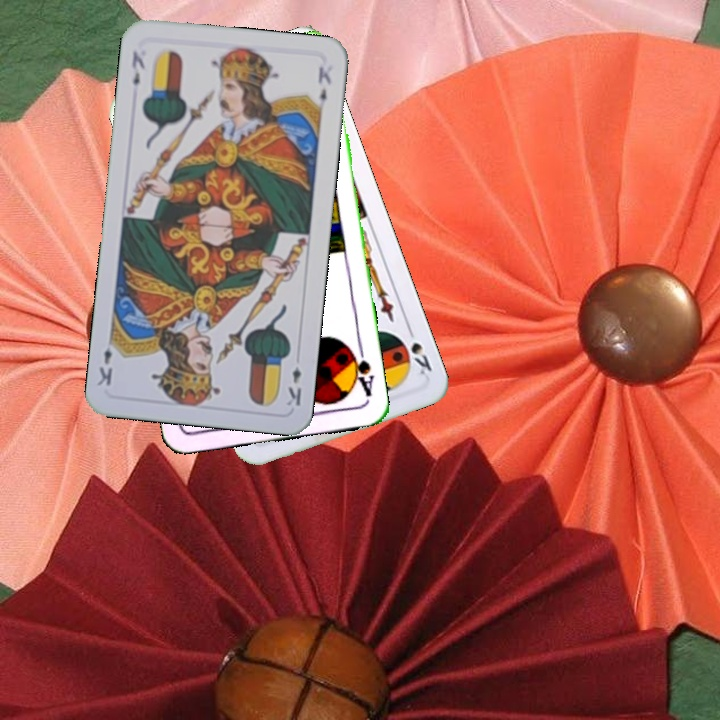EK: (283, 363, 304, 409), (127, 47, 148, 88)
SA: (345, 342, 377, 399)
SK: (403, 322, 435, 378)
